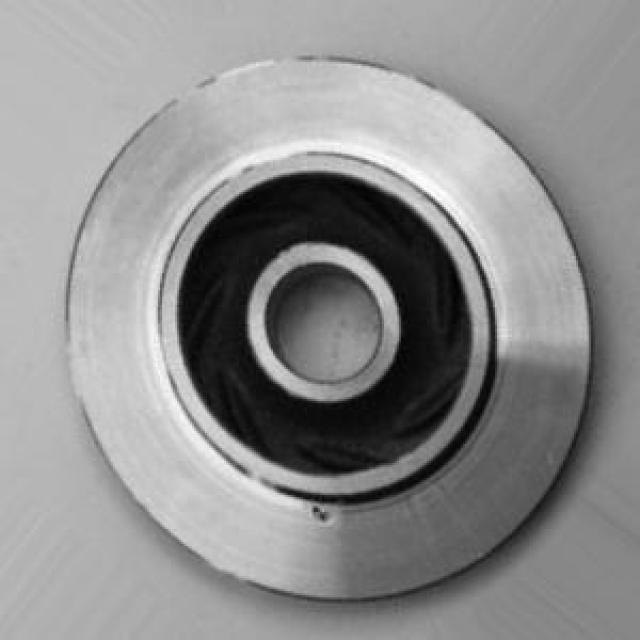Defect: (306, 490, 337, 531)
